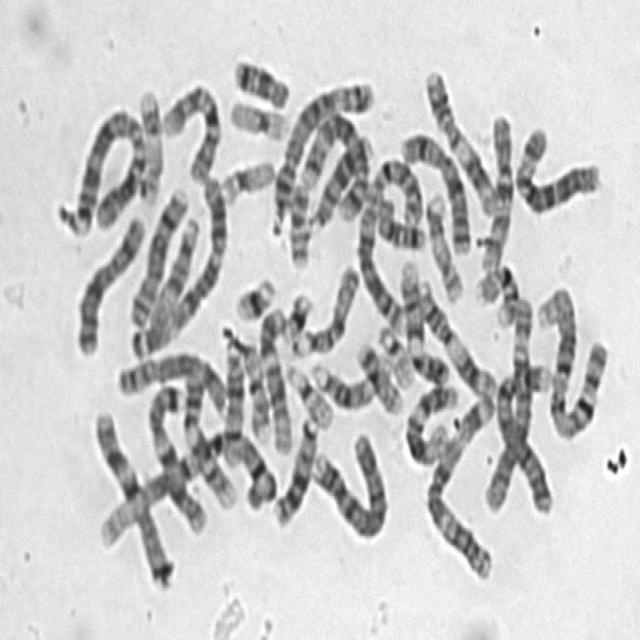A1: (94, 421, 279, 551), (531, 276, 610, 442)
A2: (351, 147, 425, 334), (56, 96, 150, 238)
A3: (121, 162, 233, 358), (419, 378, 497, 585)
B4: (481, 351, 555, 516), (305, 421, 390, 542)
B5: (262, 68, 378, 238), (295, 103, 374, 225)
C10: (155, 70, 224, 186), (476, 102, 516, 272)
C11: (418, 58, 499, 216), (409, 271, 498, 400)
C12: (254, 297, 295, 456), (398, 372, 462, 467)
C6: (479, 286, 537, 516), (508, 115, 604, 217)
C7: (86, 400, 174, 592), (141, 372, 209, 537)
C8: (123, 174, 192, 330), (110, 343, 230, 416)
C9: (176, 363, 238, 511), (393, 250, 452, 388)
D13: (306, 135, 377, 240), (267, 404, 321, 530)
D14: (307, 340, 398, 412), (216, 328, 247, 472)
D15: (280, 254, 362, 358), (140, 207, 203, 335)
E16: (469, 253, 522, 329), (238, 343, 271, 449)
E17: (421, 182, 466, 303), (132, 80, 165, 206)
E18: (227, 46, 292, 110), (372, 192, 428, 252)
F19: (224, 88, 292, 142), (215, 148, 277, 206)
F20: (350, 332, 404, 418), (282, 172, 314, 270)
G21: (228, 265, 277, 323), (276, 280, 316, 346)
G22: (279, 352, 336, 430), (372, 314, 416, 390)
X: (68, 205, 148, 360), (394, 119, 474, 259)
